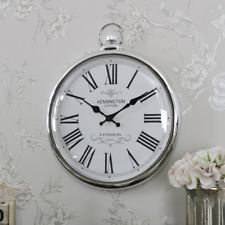clock: (55, 55, 174, 184)
